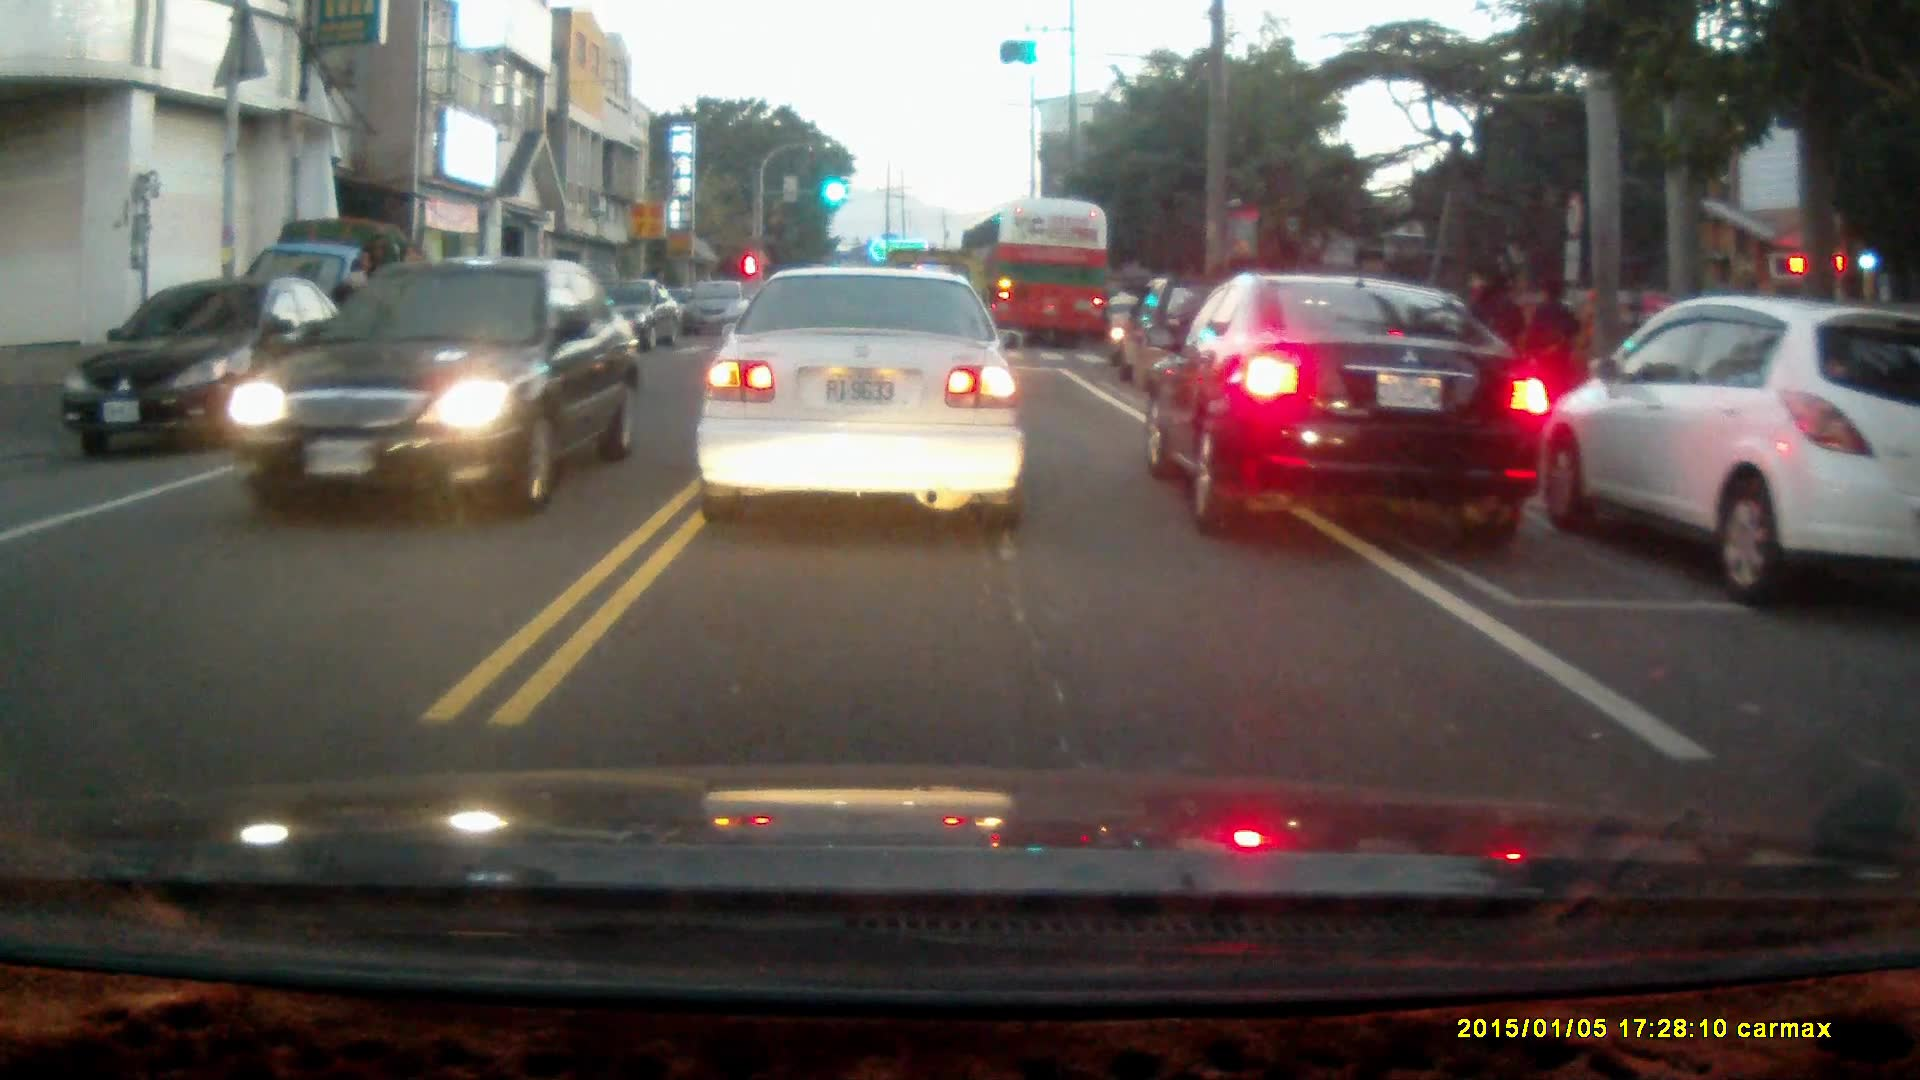pedestrian: (1525, 276, 1581, 412), (1470, 274, 1517, 407)
rider: (1103, 282, 1143, 363)
vehicle: (1526, 293, 1920, 615), (1145, 274, 1553, 543), (223, 257, 645, 517), (695, 263, 1028, 533), (65, 275, 360, 457), (228, 222, 454, 402), (962, 205, 1108, 354), (683, 280, 752, 339)
